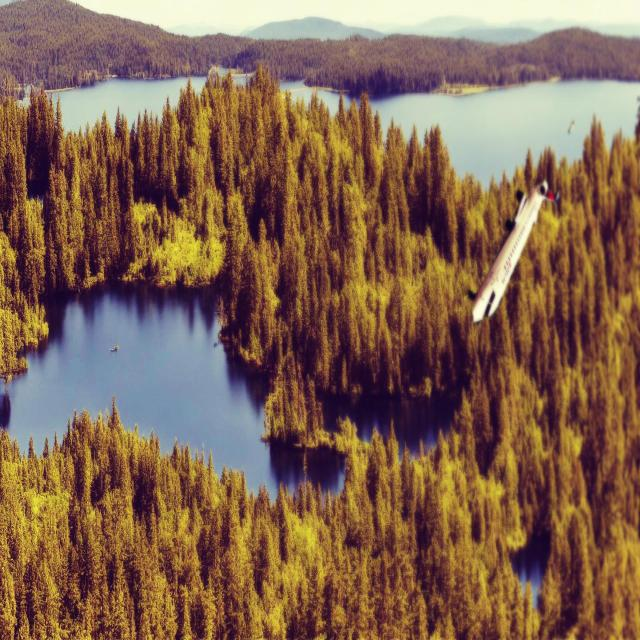airplane: (467, 178, 560, 326)
